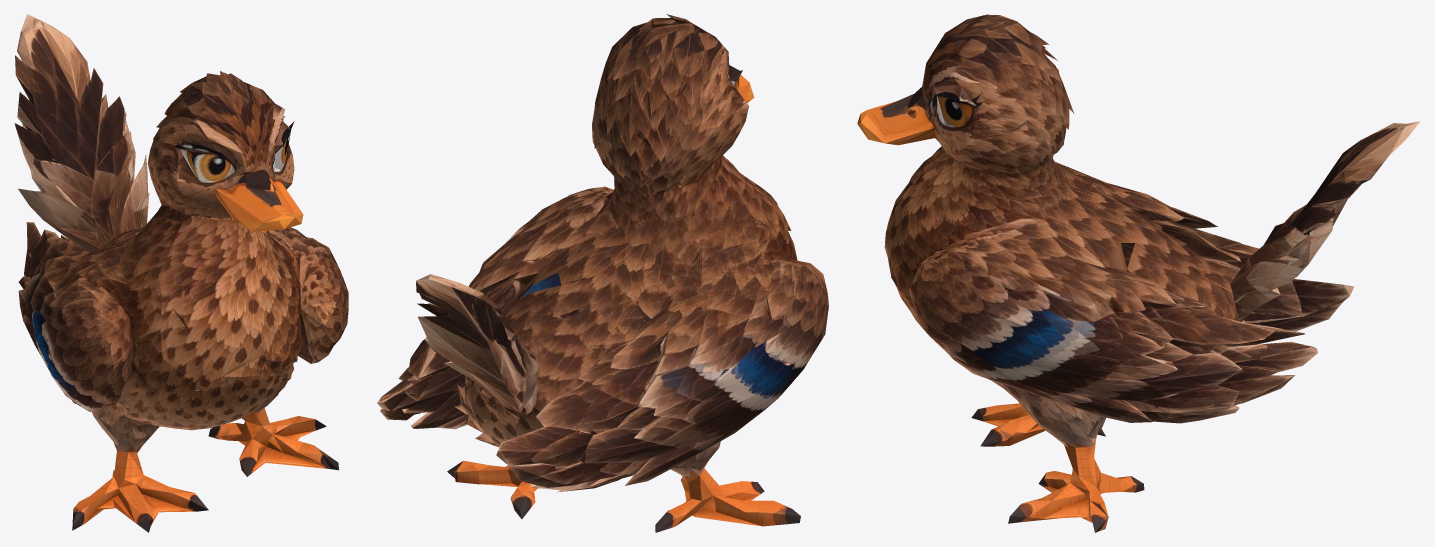
Rendered from duck-hen.glb.
3 views of the same model, side by side, from view 1: azimuth 30°, elevation 25°; view 2: azimuth 150°, elevation 25°; view 3: azimuth 270°, elevation 25° (orthographic). The views are drawn at different scales.
Bounding box in the file's own units: 0.3688 × 0.5 × 0.5727.
Materials: 1 (1 with a texture image).
